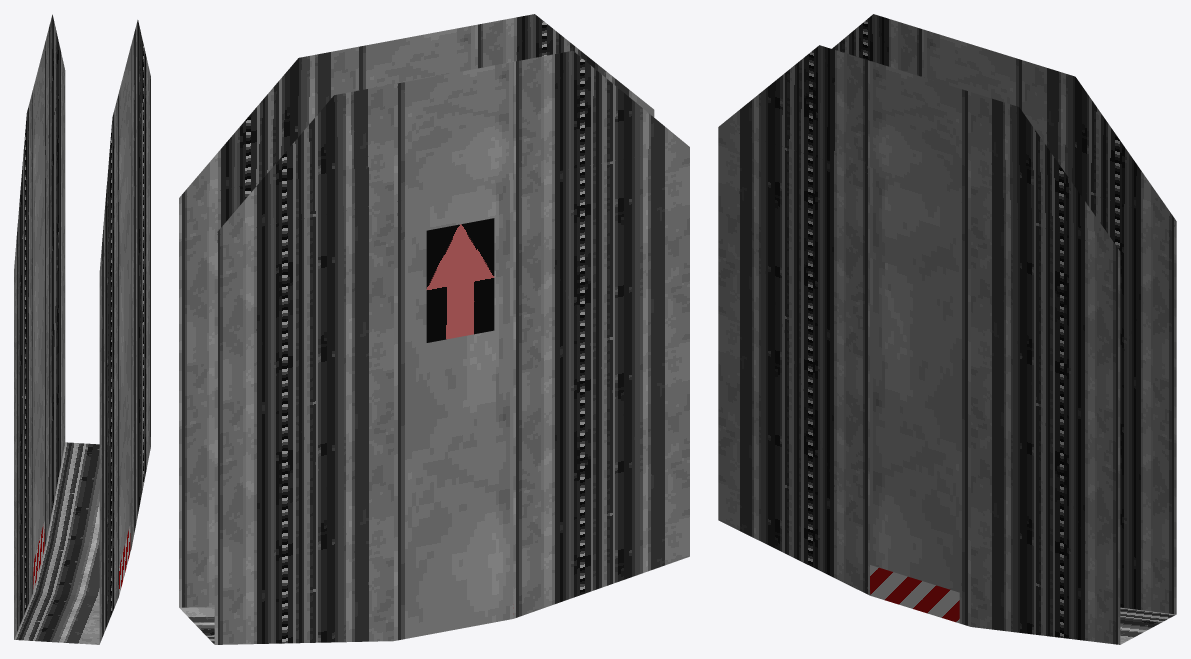
File: metal_blast_door.glb
3 views of the same model, side by side, from view 1: azimuth 30°, elevation 25°; view 2: azimuth 150°, elevation 25°; view 3: azimuth 270°, elevation 25° (orthographic). The views are drawn at different scales.
Parts seen in each view (by area): view 1: Object; view 2: Object; view 3: Object.
Part boxes in pixels (bbox=[...]): Object: bbox=[14, 14, 150, 644]; Object: bbox=[179, 14, 689, 644]; Object: bbox=[718, 14, 1176, 644].
Bounding box in the file's own units: 1.77 × 2.86 × 2.22.
Materials: 5 (5 with a texture image).
